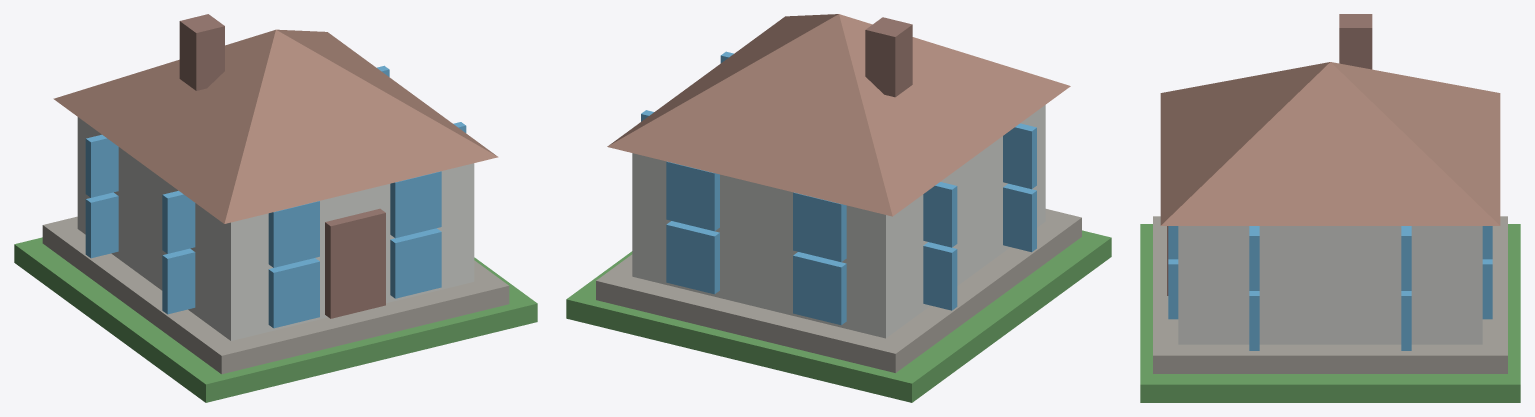
Rendered from res_vila.glb.
3 views of the same model, side by side, from view 1: azimuth 30°, elevation 25°; view 2: azimuth 150°, elevation 25°; view 3: azimuth 270°, elevation 25° (orthographic). The views are drawn at different scales.
Visible parts, largest first — view 1: res_vila; view 2: res_vila; view 3: res_vila.
Boxes of the visible parts, x1,y1,x2,y2 form: res_vila: (14,14,537,402); res_vila: (566,14,1111,402); res_vila: (1140,14,1520,402).
Bounding box in the file's own units: 0.3 × 0.237 × 0.3.
